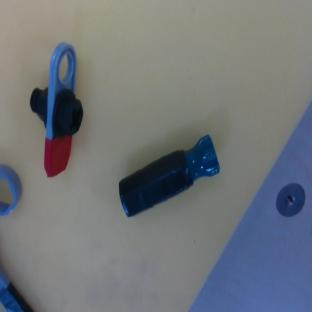part_1_good: (25, 41, 89, 177)
part_2_bad: (110, 133, 226, 218)
